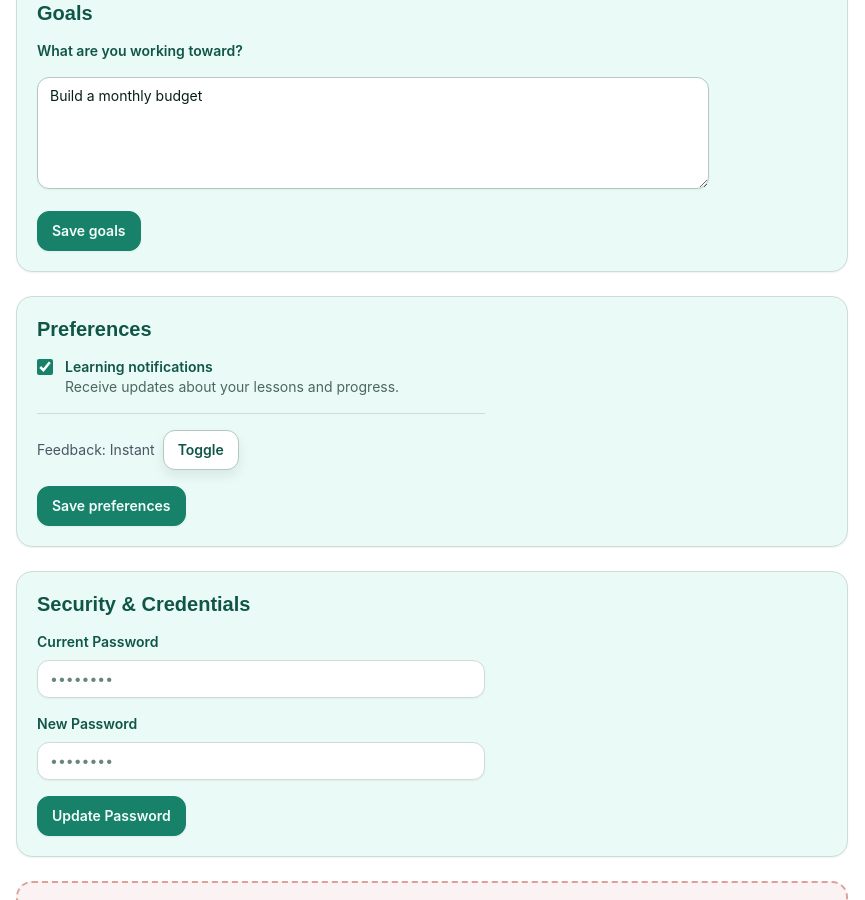
Test: ProfilePage › switches quiz feedback between instant and end-of-quiz modes
This screenshot has width=865, height=900.
(page scrolled)
Expected: the text "Feedback: Instant" is shown, [37, 440, 155, 460]
Click the button "Toggle".
click(201, 450)  # box [163, 430, 239, 470]
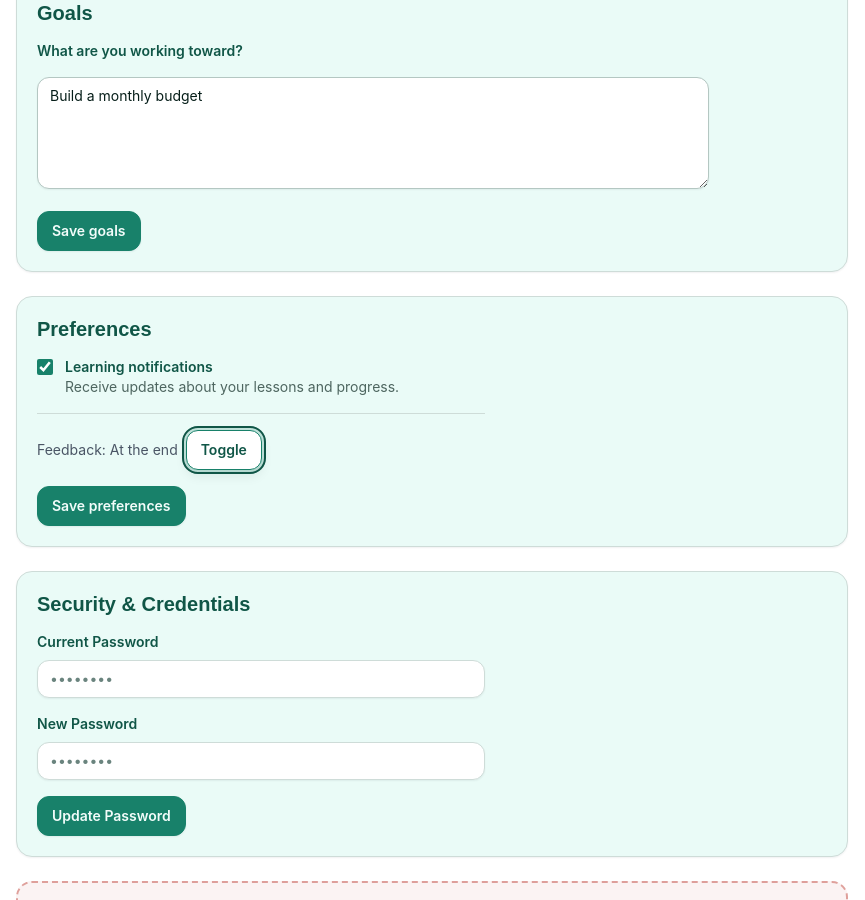
Now the text "Feedback: At the end" is shown, box [37, 440, 178, 460]
